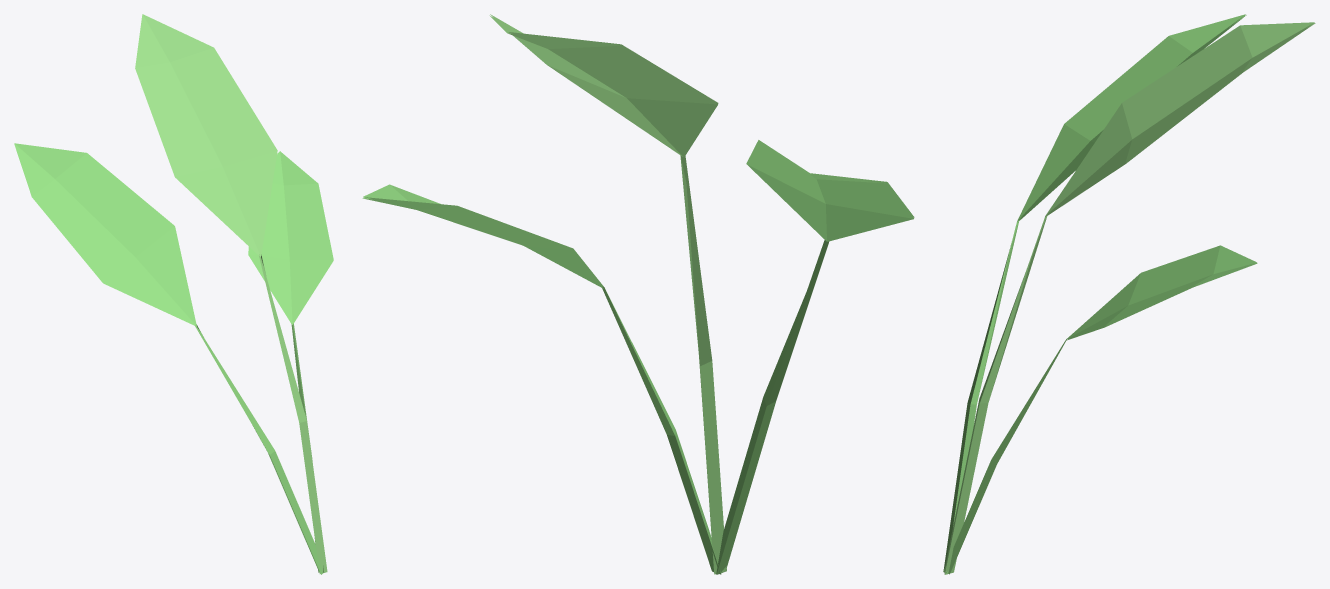
The model's file is Plant_j_TwoS_03.fbx.
3 views of the same model, side by side, from view 1: azimuth 30°, elevation 25°; view 2: azimuth 150°, elevation 25°; view 3: azimuth 270°, elevation 25° (orthographic). The views are drawn at different scales.
Visible parts, largest first — view 1: Plant_j_TwoS_03; view 2: Plant_j_TwoS_03; view 3: Plant_j_TwoS_03.
Boxes of the visible parts, x1,y1,x2,y2 form: Plant_j_TwoS_03: (14, 14, 333, 574); Plant_j_TwoS_03: (362, 14, 914, 574); Plant_j_TwoS_03: (943, 14, 1315, 574).
Size of the model in its own units: 38.11 by 55.48 by 34.9.
